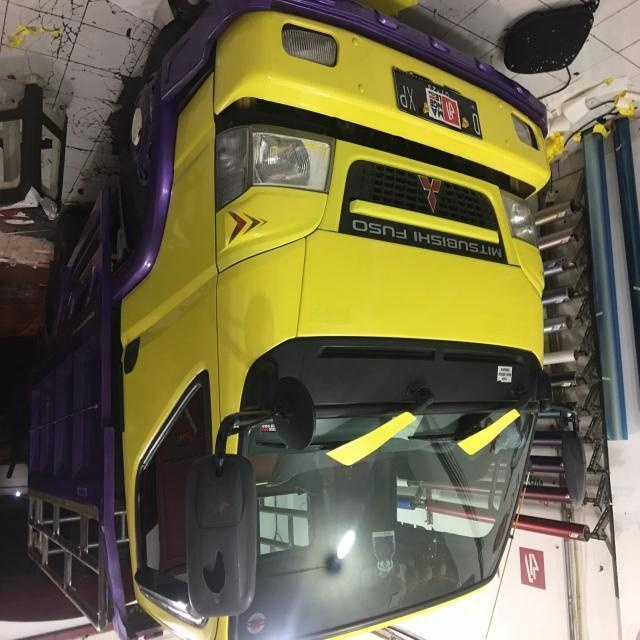Truck: (1, 18, 575, 640)
